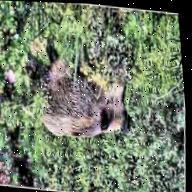boar: (23, 32, 138, 151)
